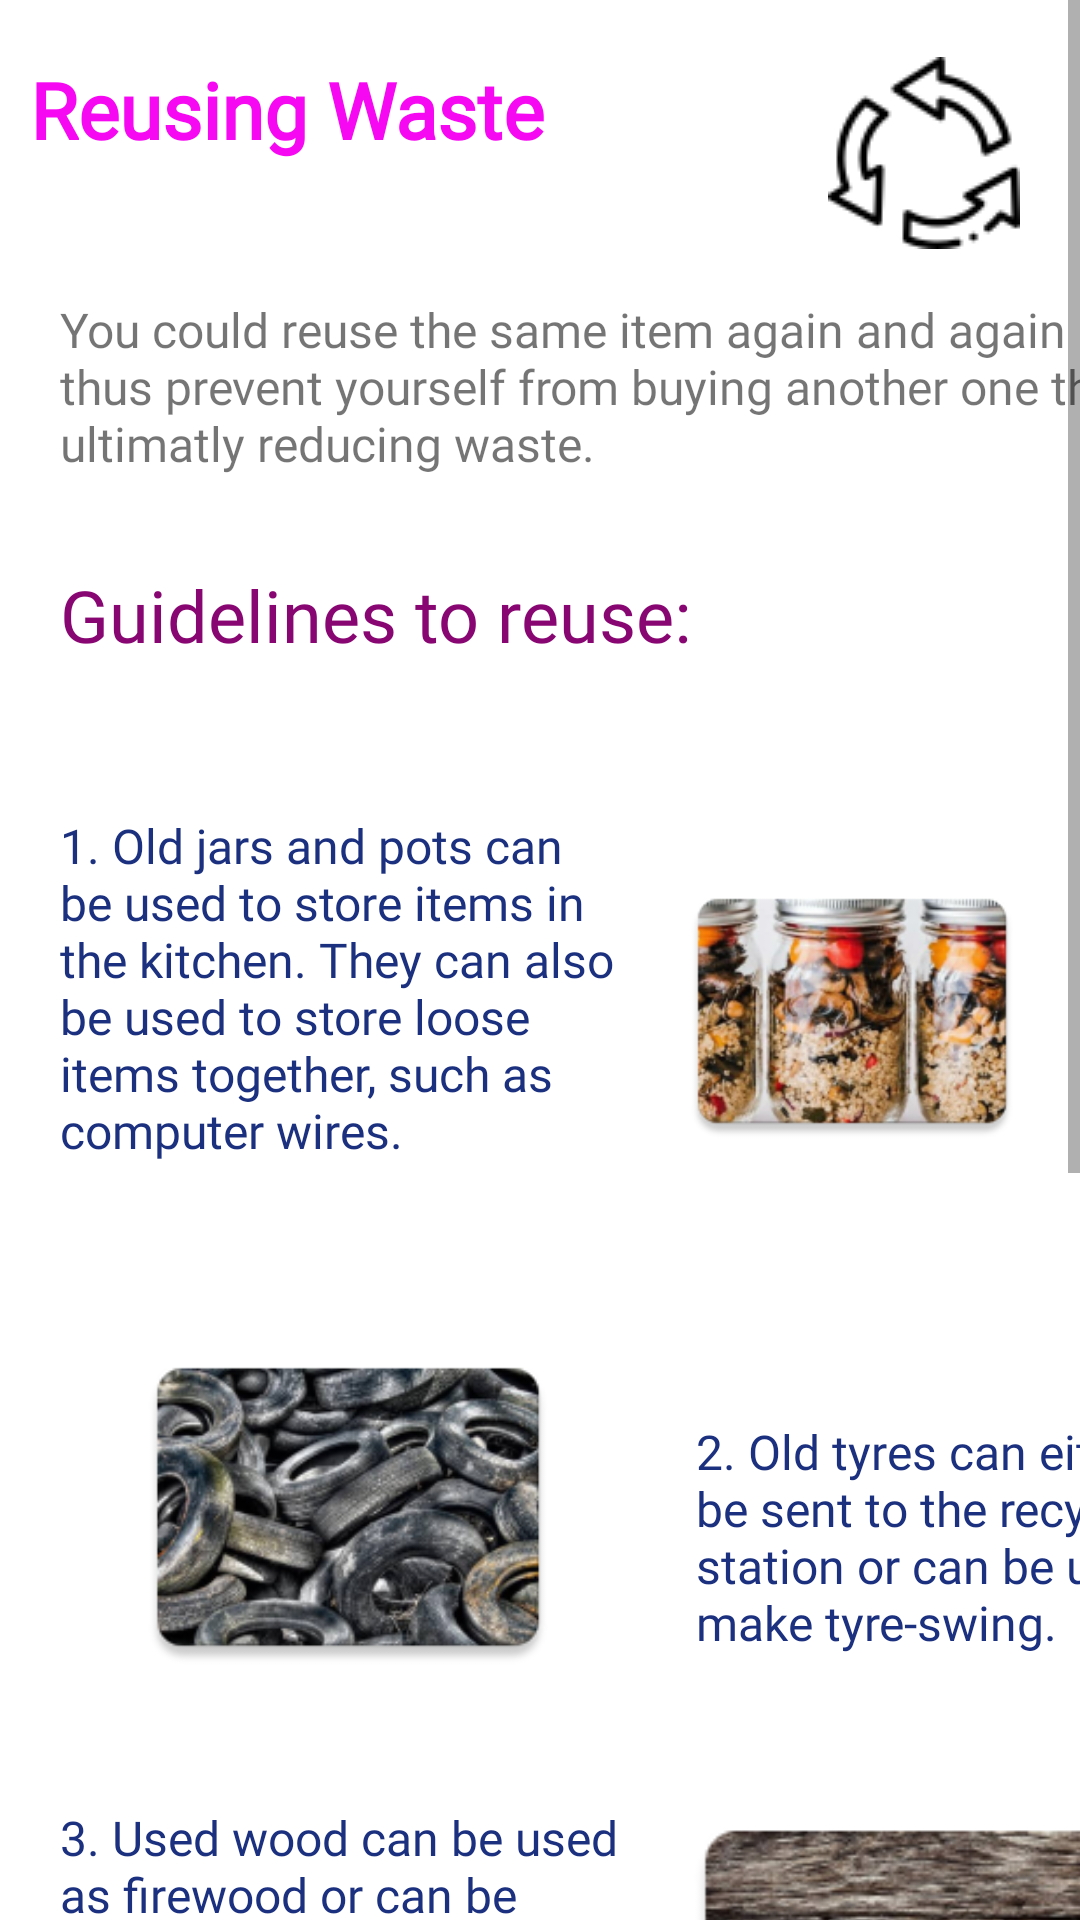

Point at icon controls on the screen. Image size 1080px x 1920px, points as point (x, y).
old jar reuse: point (852, 1014)
